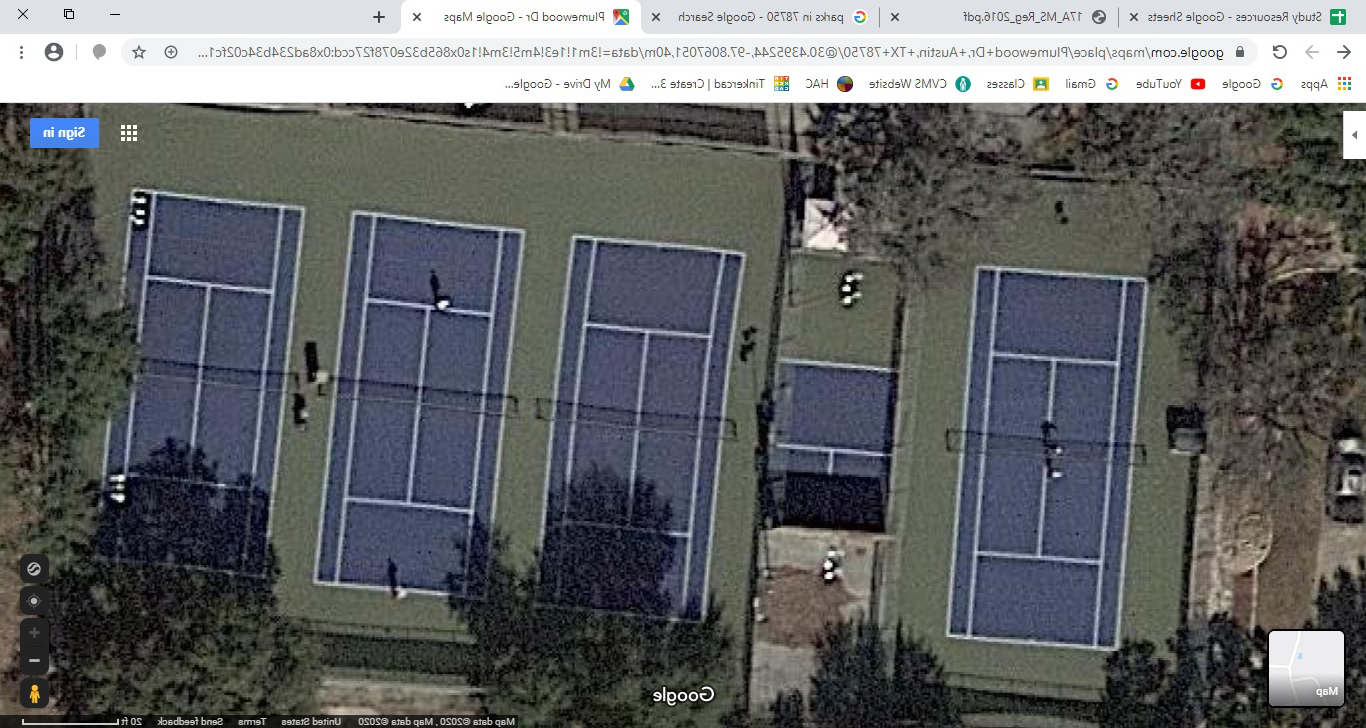tennis: (936, 238, 1198, 678), (536, 214, 741, 642), (96, 167, 305, 565)
